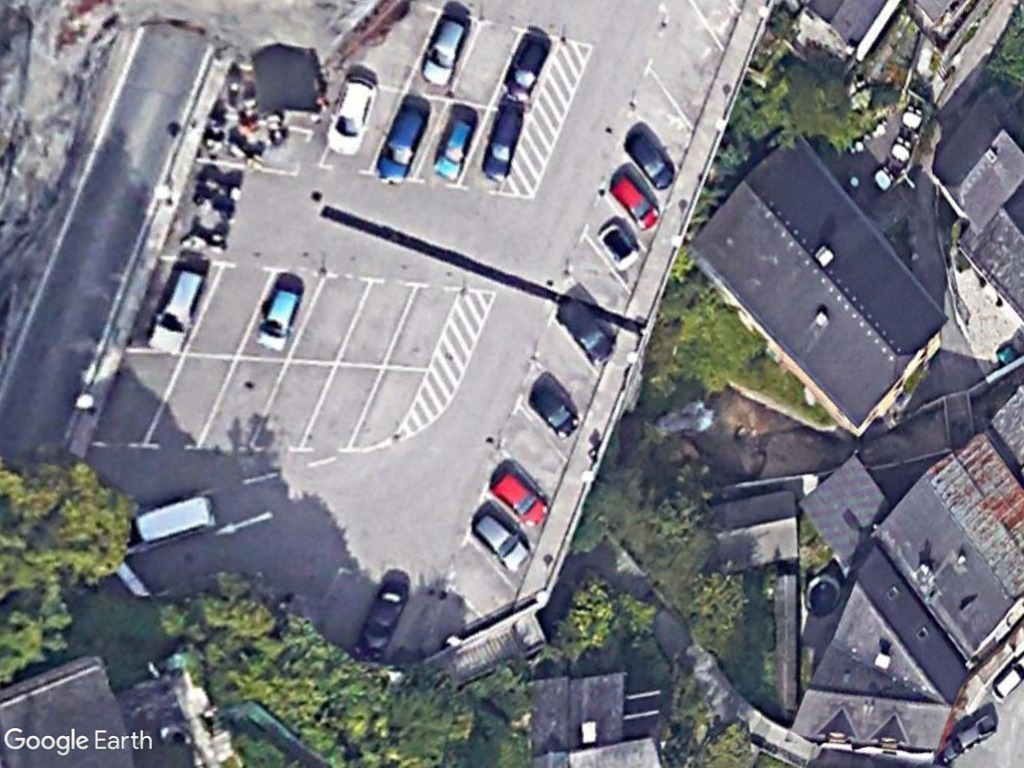car: (318, 68, 387, 164), (146, 262, 211, 363), (369, 93, 436, 188), (350, 575, 414, 662), (492, 24, 556, 110), (550, 290, 617, 370), (413, 7, 474, 94), (489, 464, 558, 537), (620, 119, 682, 194), (467, 508, 533, 576), (477, 99, 528, 183), (251, 280, 305, 357), (426, 105, 480, 182), (607, 166, 664, 236), (522, 379, 583, 442)
